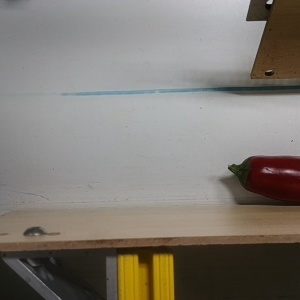Cut Point: (234, 155, 263, 194)
